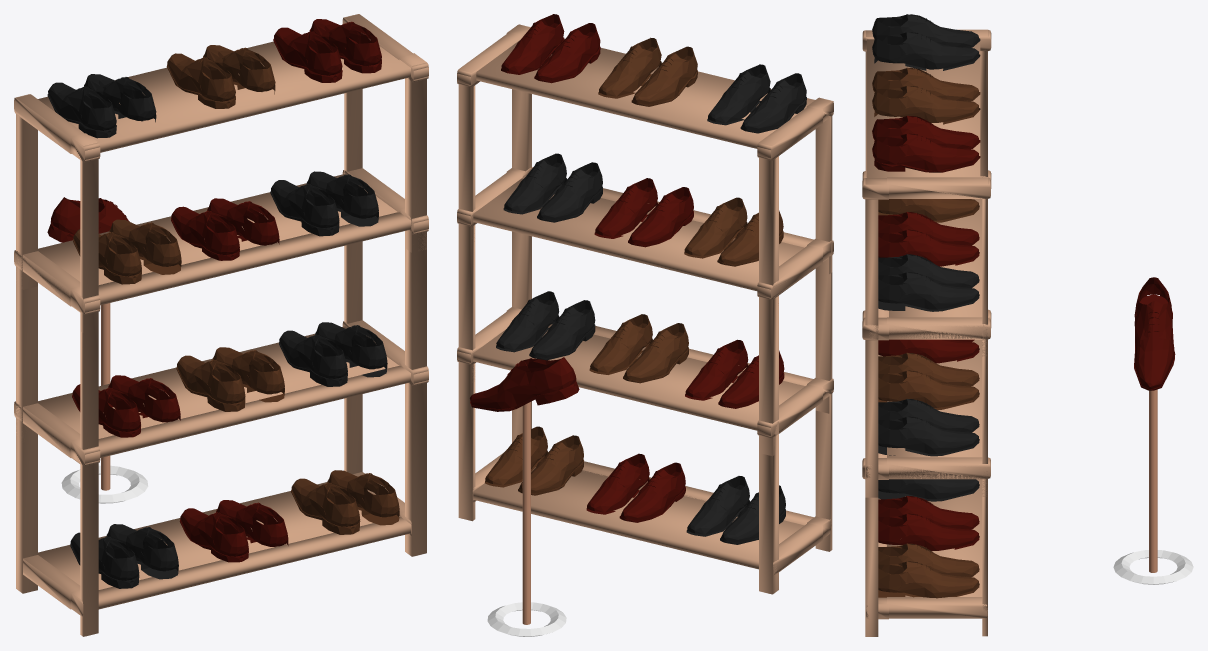
Rendered from Office Wear_shoess.fbx.
The picture shows the model from 3 angles, left to right: view 1: azimuth 30°, elevation 25°; view 2: azimuth 150°, elevation 25°; view 3: azimuth 270°, elevation 25°; orthographic projection. The views are drawn at different scales.
Parts seen in each view (by area): view 1: Pattern2D_5081.013, pPlane15.004, pPlane15.012, pPlane15.003, pPlane15.009, pPlane15.007, pPlane15.002, pPlane15.001, pPlane15.011, pPlane15.005, pPlane15.006, Shoe_Mannequin (+2 smaller); view 2: Pattern2D_5081.013, Shoe_Mannequin, pPlane15.004, pPlane15.007, pPlane15.009, pPlane15.003, pPlane15.002, pPlane15.001, pPlane15.011, pPlane15.005, pPlane15.012, pPlane15.006 (+2 smaller); view 3: Pattern2D_5081.013, Shoe_Mannequin, pPlane15.003, pPlane15.004, pPlane15.001, pPlane15.007, pPlane15.002, pPlane15.012, pPlane15.009, pPlane15.011, pPlane15.005, pPlane15.010 (+2 smaller).
Part boxes in pixels (x1,y1,x2,y2): Pattern2D_5081.013: (14, 14, 428, 636); pPlane15.004: (270, 171, 378, 236); pPlane15.012: (291, 470, 399, 534); pPlane15.003: (273, 19, 381, 82); pPlane15.009: (176, 347, 284, 411); pPlane15.007: (279, 322, 387, 386); pPlane15.002: (166, 45, 275, 108); pPlane15.001: (47, 74, 156, 138); pPlane15.011: (179, 500, 288, 562); pPlane15.005: (171, 198, 279, 260); pPlane15.006: (73, 219, 181, 284); Shoe_Mannequin: (47, 197, 148, 503); Pattern2D_5081.013: (457, 24, 833, 594); Shoe_Mannequin: (470, 357, 579, 636); pPlane15.004: (503, 153, 602, 222); pPlane15.007: (496, 291, 595, 360); pPlane15.009: (589, 314, 688, 383); pPlane15.003: (501, 14, 600, 83); pPlane15.002: (598, 37, 697, 106); pPlane15.001: (707, 64, 806, 133); pPlane15.011: (586, 453, 685, 522); pPlane15.005: (594, 178, 693, 247); pPlane15.012: (485, 426, 583, 495); pPlane15.006: (684, 197, 783, 266); Pattern2D_5081.013: (862, 29, 991, 636); Shoe_Mannequin: (1113, 277, 1193, 584); pPlane15.003: (872, 115, 980, 172); pPlane15.004: (878, 254, 979, 311); pPlane15.001: (872, 14, 980, 70); pPlane15.007: (878, 399, 979, 456); pPlane15.002: (872, 67, 980, 124); pPlane15.012: (878, 543, 979, 598); pPlane15.009: (878, 352, 979, 409); pPlane15.011: (878, 496, 979, 550); pPlane15.005: (878, 212, 979, 266); pPlane15.010: (878, 479, 979, 501).
Size of the model in its own units: 242 by 357 by 218.
